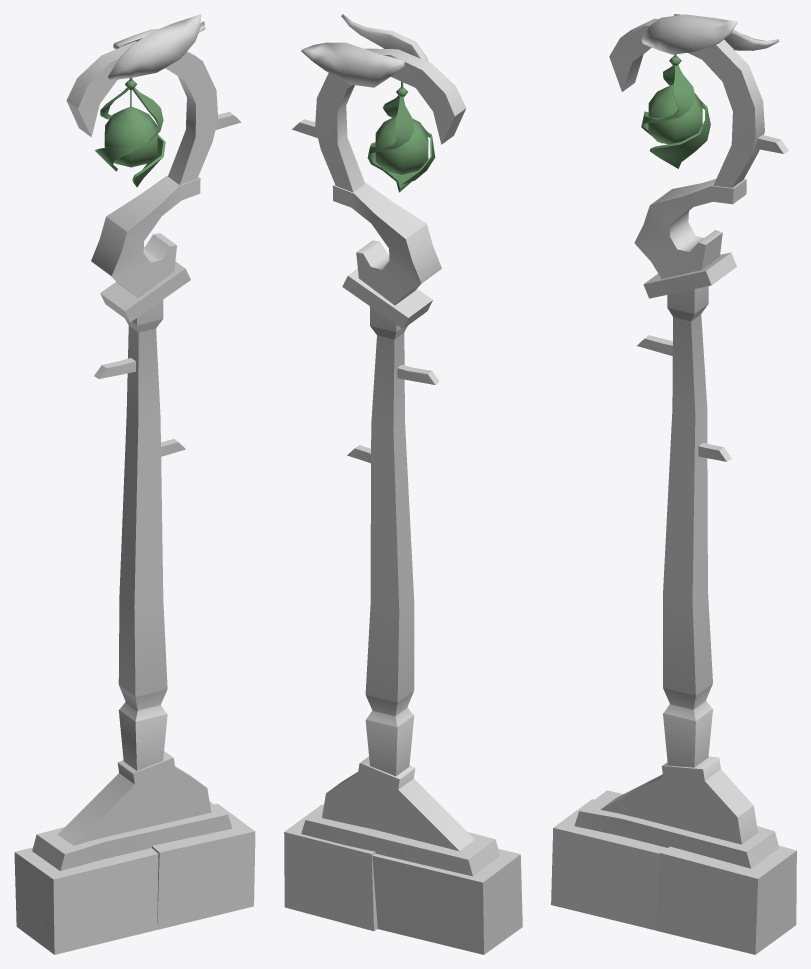
Rendered from Homeworld_Exterior_Xm_Lamp_Light_Chengshiludeng_01_Lod0.fbx.
The picture shows the model from 3 angles, left to right: view 1: azimuth 30°, elevation 25°; view 2: azimuth 150°, elevation 25°; view 3: azimuth 330°, elevation 25°; orthographic projection. The views are drawn at different scales.
Parts seen in each view (by area): view 1: Area_Xm_Light_XKC_Chengshiludeng_03_Lod0; view 2: Area_Xm_Light_XKC_Chengshiludeng_03_Lod0; view 3: Area_Xm_Light_XKC_Chengshiludeng_03_Lod0.
Part boxes in pixels (x1,y1,x2,y2): Area_Xm_Light_XKC_Chengshiludeng_03_Lod0: (14,14,255,954); Area_Xm_Light_XKC_Chengshiludeng_03_Lod0: (284,14,522,954); Area_Xm_Light_XKC_Chengshiludeng_03_Lod0: (551,14,796,954).
Bounding box in the file's own units: 1.09 × 4.46 × 0.3819.
